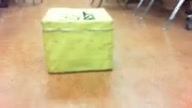cube: (39, 7, 114, 75)
